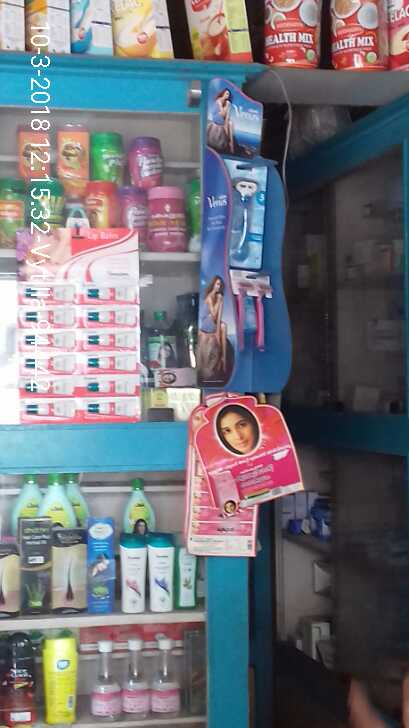venus: (222, 158, 266, 267)
